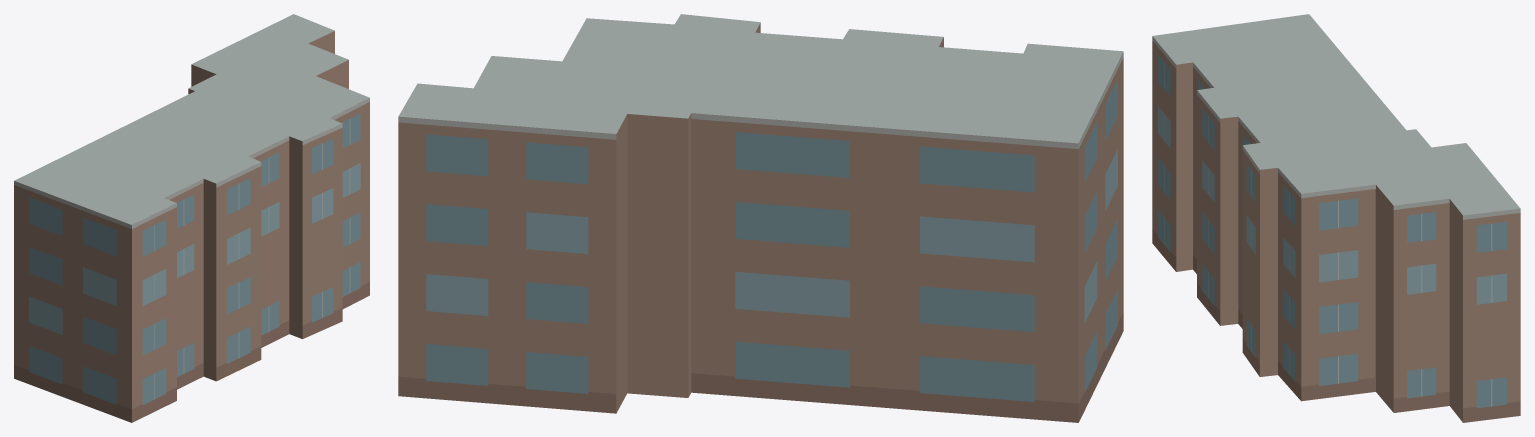
The model's file is survey-upis-32704620.glb.
3 renders of one model, left to right at view 1: azimuth 30°, elevation 25°; view 2: azimuth 150°, elevation 25°; view 3: azimuth 270°, elevation 25°, orthographic. The views are drawn at different scales.
Visible parts, largest first — view 1: survey-upis-32704620.tmp; view 2: survey-upis-32704620.tmp; view 3: survey-upis-32704620.tmp.
Part boxes in pixels (x1,y1,x2,y2): survey-upis-32704620.tmp: (14,14,369,422); survey-upis-32704620.tmp: (398,14,1123,422); survey-upis-32704620.tmp: (1152,14,1520,422).
Bounding box in the file's own units: 24.63 × 11.8 × 19.01.
